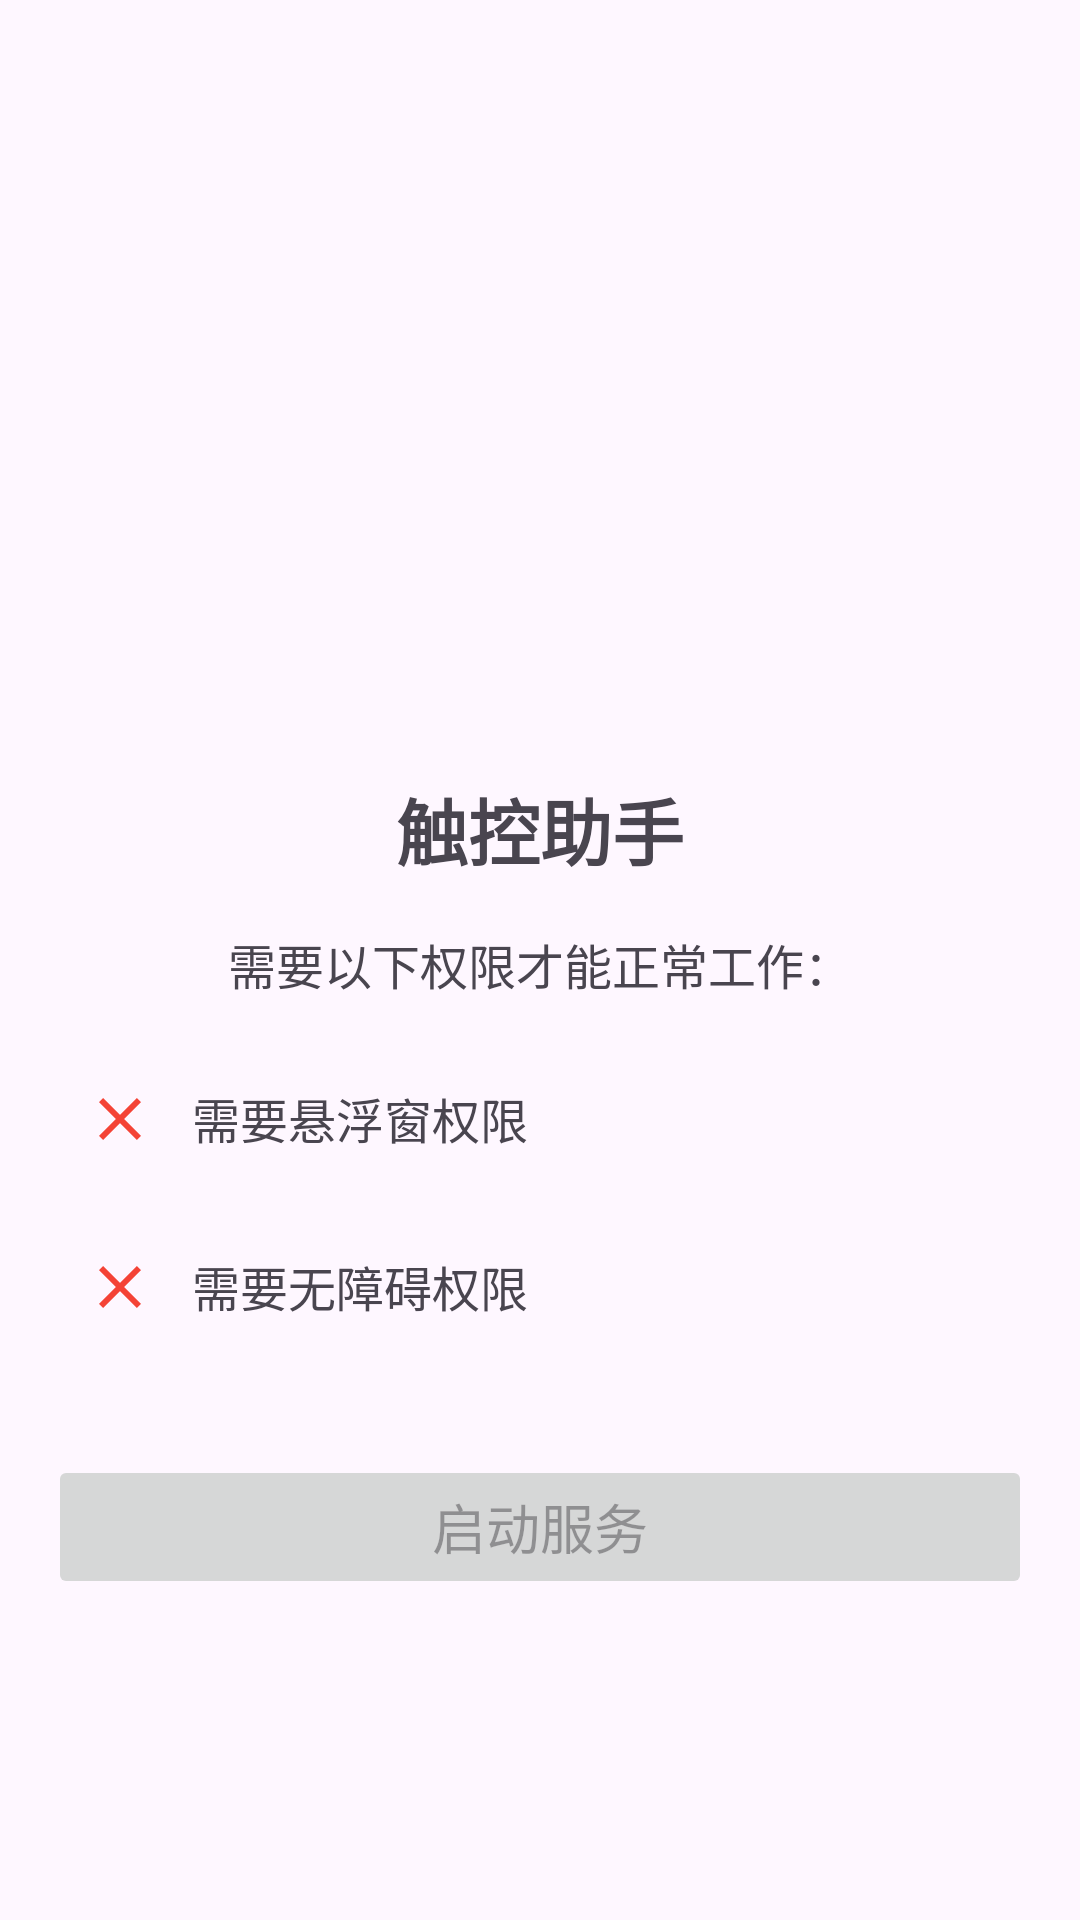

Named icons in this screenshot (1080x1920) and their bounding boxes, (x1, y1, x2, y2):
close: (99, 1098, 141, 1140), (99, 1266, 141, 1308)
